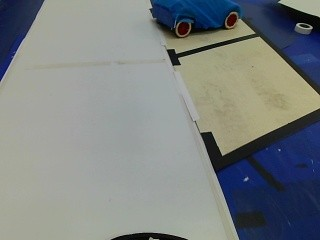car: (145, 0, 246, 38)
